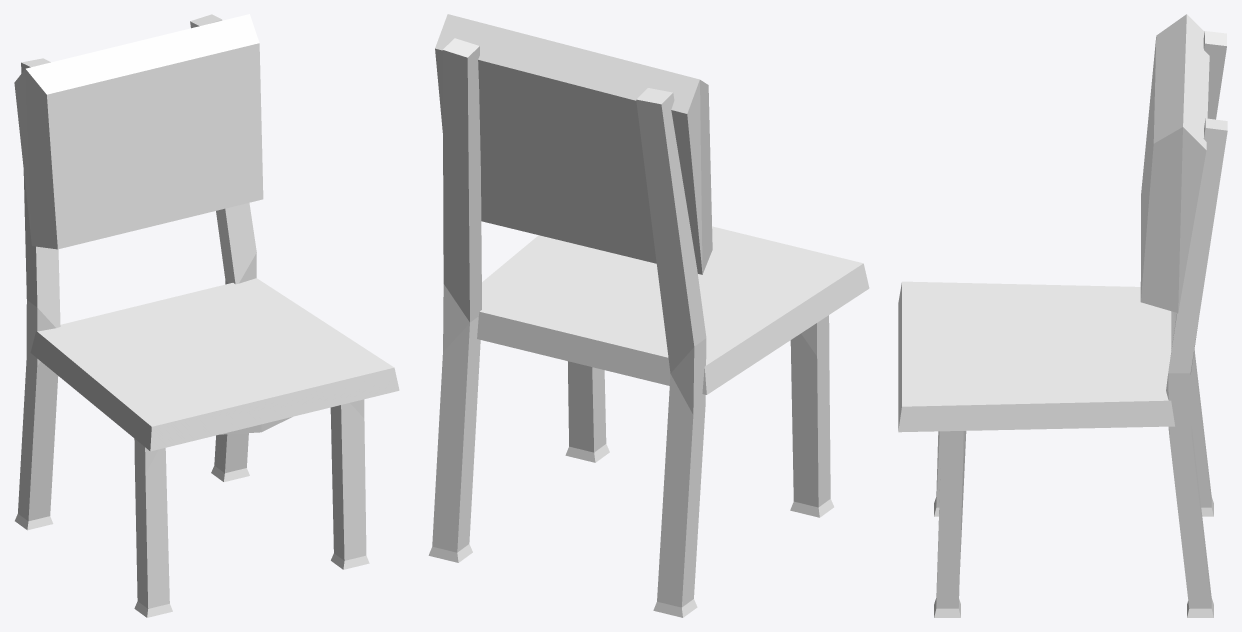
File: chair.glb
3 renders of one model, left to right at view 1: azimuth 30°, elevation 25°; view 2: azimuth 150°, elevation 25°; view 3: azimuth 270°, elevation 25°, orthographic. The views are drawn at different scales.
Parts seen in each view (by area): view 1: chair; view 2: chair; view 3: chair.
Boxes of the visible parts, x1,y1,x2,y2 form: chair: (14, 14, 399, 617); chair: (428, 14, 869, 617); chair: (898, 14, 1227, 617).
Size of the model in its own units: 0.6778 by 1.21 by 0.7345.
1 material, 1 textured.
